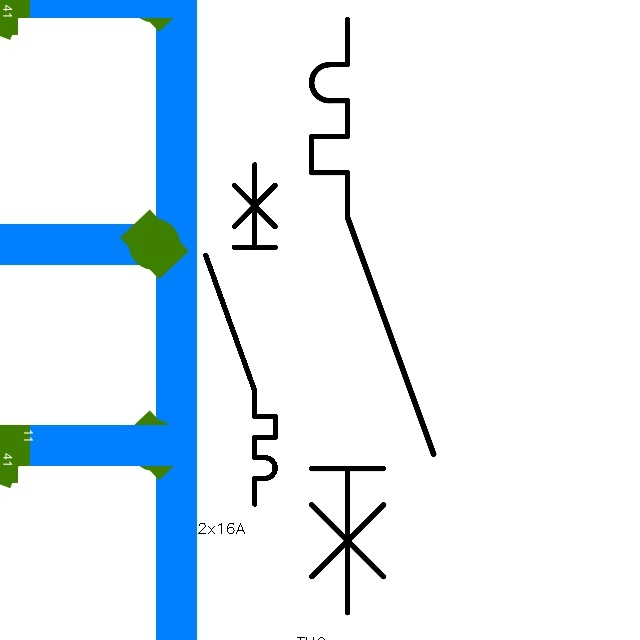interruptor_termomagnetico: (296, 4, 448, 627), (197, 156, 284, 513)
